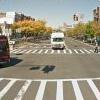Crosswalk: (10, 70, 92, 99)
